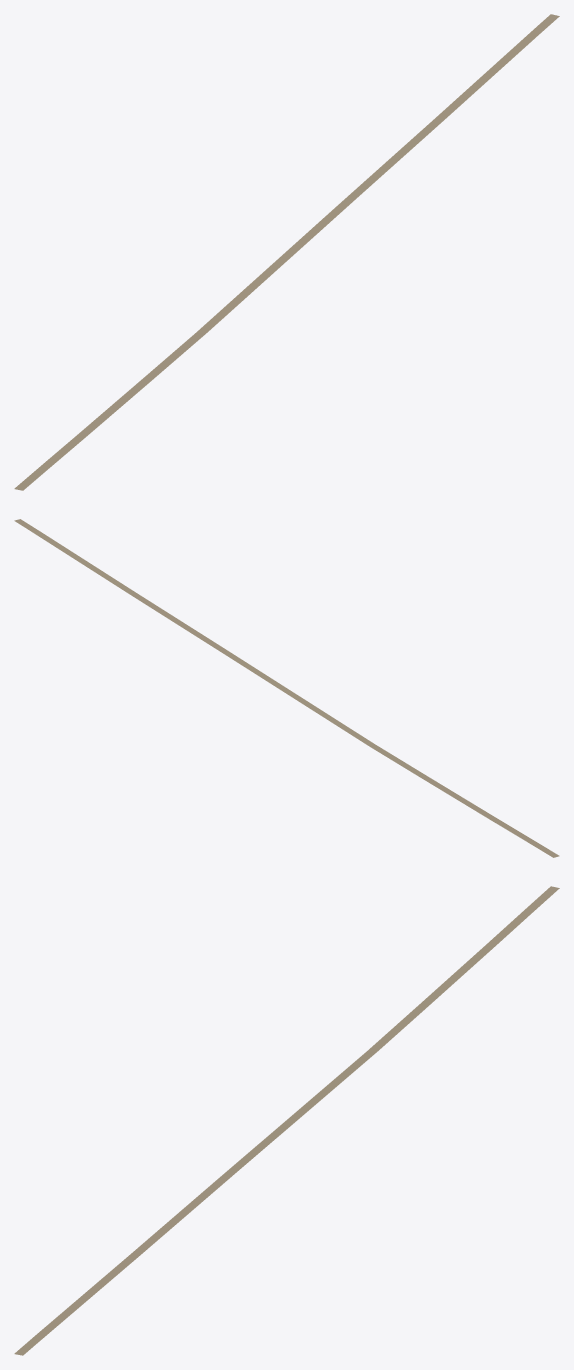
Rendered from farm_8_2_track.glb.
The picture shows the model from 3 angles, top to bottom: view 1: azimuth 90°, elevation 25°; view 2: azimuth 150°, elevation 25°; view 3: azimuth 270°, elevation 25°; orthographic projection. The views are drawn at different scales.
Visible parts, largest first — view 1: geometry_0; view 2: geometry_0; view 3: geometry_0.
Part boxes in pixels (x1,y1,x2,y2): geometry_0: (14, 14, 559, 490); geometry_0: (14, 519, 559, 857); geometry_0: (14, 886, 559, 1355).
Size of the model in its own units: 363 by 2.59 by 177.
